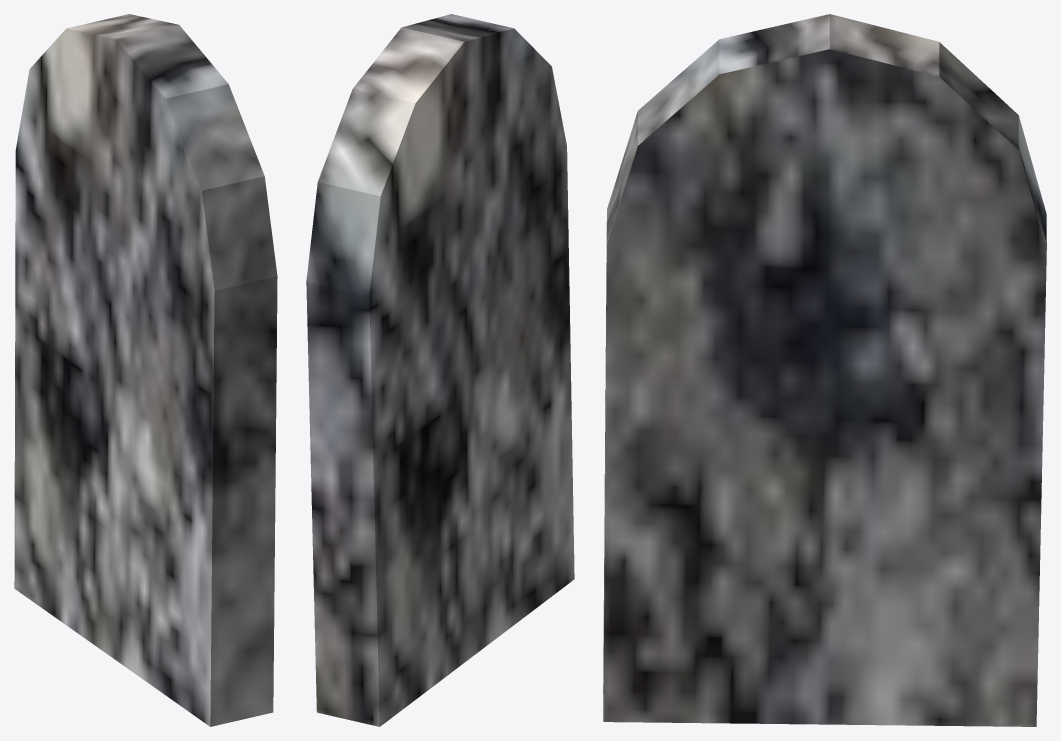
Rendered from TombesPierre.FBX.
3 renders of one model, left to right at view 1: azimuth 30°, elevation 25°; view 2: azimuth 150°, elevation 25°; view 3: azimuth 270°, elevation 25°, orthographic. The views are drawn at different scales.
Parts seen in each view (by area): view 1: tombepierre; view 2: tombepierre; view 3: tombepierre.
Boxes of the visible parts, left/top/right/bottom form: tombepierre: left=14, top=14, right=277, bottom=726; tombepierre: left=306, top=14, right=574, bottom=726; tombepierre: left=603, top=14, right=1046, bottom=726.
Bounding box in the file's own units: 9.65 × 79.51 × 46.78.
1 material, 1 textured.
